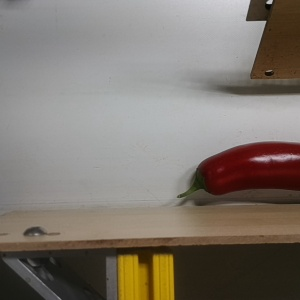Cut Point: (189, 161, 222, 196)
